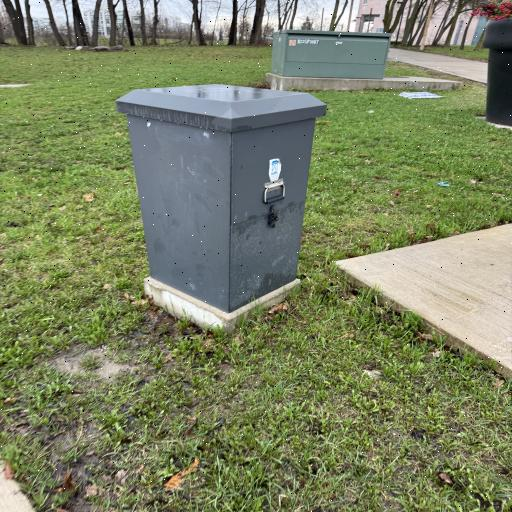Electrical Box: (113, 81, 333, 337), (266, 24, 397, 84)
